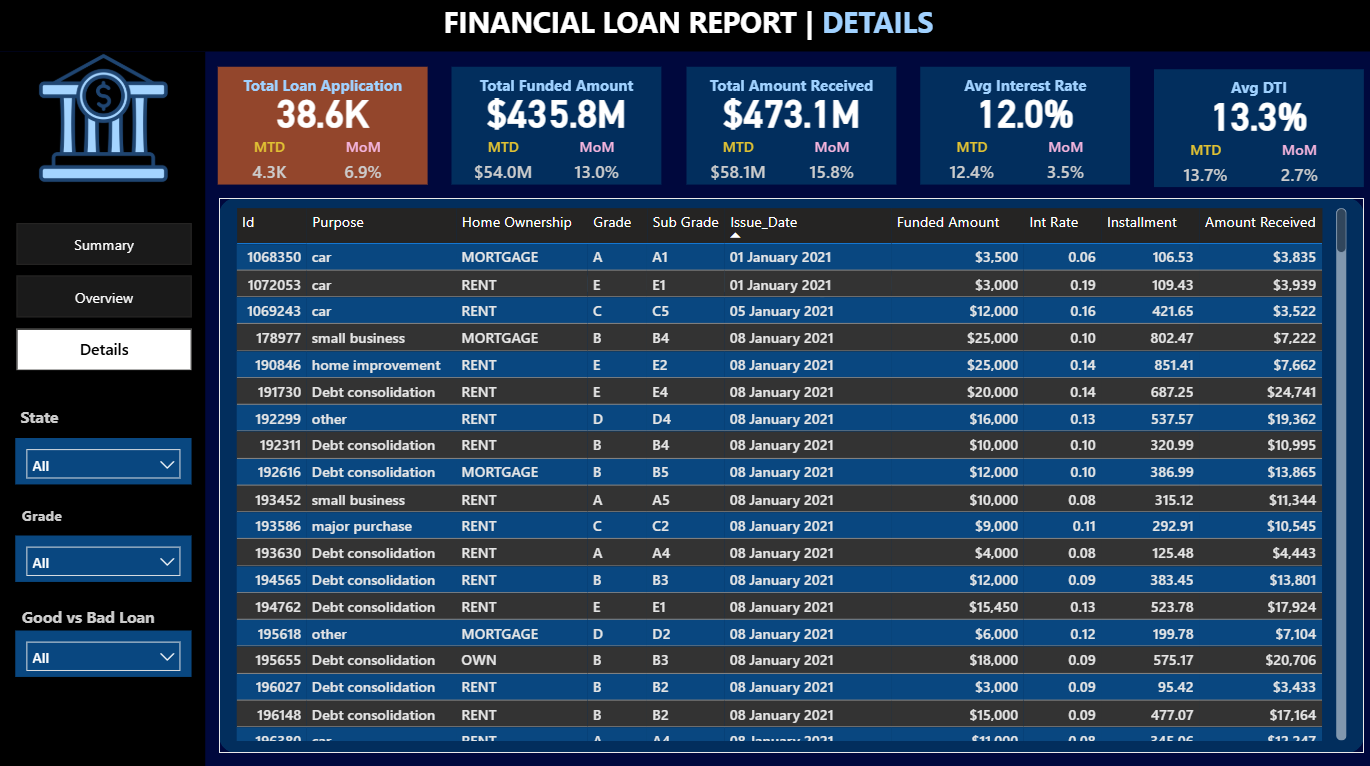

The dashboard page shown, as its layout file describes it:
{"tool":"powerbi","page":{"name":"Details","canvas":[1280,720],"ordinal":2},"visuals":[{"type":"shape","box":[0,54.7,191.9,665.1],"z":0},{"type":"textbox","box":[398.8,244.2,508.1,48.8],"z":1000},{"type":"group","id":"g1","title":"Group 1","box":[203.3,68.6,195.3,117.4],"z":2000},{"type":"shape","box":[203.3,68.6,195.3,109.8],"z":3000,"group":"g1"},{"type":"shape","box":[420.8,68.6,195.3,109.8],"z":3000,"group":"g3"},{"type":"group","id":"g2","title":"Group 1","box":[639.4,68.6,195.3,117.4],"z":3000},{"type":"shape","box":[639.4,68.6,195.3,109.8],"z":3000,"group":"g2"},{"type":"shape","box":[856.8,68.6,195.3,109.8],"z":3000,"group":"g4"},{"type":"shape","box":[1074.4,71.1,195.3,109.8],"z":3000,"group":"g5"},{"type":"card","fields":{"Values":["financial_loan.Toatl Loan Applications"]},"box":[203.3,82.7,195.3,54.4],"z":4000,"group":"g1"},{"type":"card","fields":{"Values":["financial_loan.Total Funded Amount"]},"box":[420.8,82.7,195.3,54.4],"z":4000,"group":"g3"},{"type":"card","fields":{"Values":["financial_loan.Total Amount Received"]},"box":[639.4,82.7,195.3,54.4],"z":4000,"group":"g2"},{"type":"card","fields":{"Values":["financial_loan.Avg Interest Rate"]},"box":[856.8,82.7,195.3,54.4],"z":4000,"group":"g4"},{"type":"card","fields":{"Values":["financial_loan.Avg DTI"]},"box":[1074.4,85.2,195.3,54.4],"z":4000,"group":"g5"},{"type":"shape","box":[204.7,190.7,1065.1,516.3],"z":4000},{"type":"group","id":"g3","title":"Group 1","box":[420.8,68.6,195.3,117.4],"z":5000},{"type":"textbox","box":[203.3,70.8,195.3,29.4],"z":5000,"group":"g1"},{"type":"textbox","box":[420.8,70.8,195.3,29.4],"z":5000,"group":"g3"},{"type":"textbox","box":[639.4,70.8,195.3,29.4],"z":5000,"group":"g2"},{"type":"textbox","box":[856.8,70.8,195.3,29.4],"z":5000,"group":"g4"},{"type":"textbox","box":[1074.4,73.3,195.3,29.4],"z":5000,"group":"g5"},{"type":"group","id":"g4","title":"Group 1","box":[856.8,68.6,195.3,117.4],"z":6000},{"type":"card","title":"MTD","fields":{"Values":["financial_loan.MTD Loan Application"]},"box":[213.8,133.8,75.6,52.2],"z":6000,"group":"g1"},{"type":"card","title":"MTD","fields":{"Values":["financial_loan.MTD Funded Amount"]},"box":[431.3,133.8,75.6,52.2],"z":6000,"group":"g3"},{"type":"card","title":"MTD","fields":{"Values":["financial_loan.MTD Total Amount Received"]},"box":[649.9,133.8,75.6,52.2],"z":6000,"group":"g2"},{"type":"card","title":"MTD","fields":{"Values":["financial_loan.MTD Avg Interest Rate"]},"box":[867.3,133.8,75.6,52.2],"z":6000,"group":"g4"},{"type":"card","title":"MTD","fields":{"Values":["financial_loan.MTD Avg DTI"]},"box":[1084.9,136.3,75.6,52.2],"z":6000,"group":"g5"},{"type":"group","id":"g5","title":"Group 1","box":[1074.4,71.1,195.3,117.4],"z":7000},{"type":"card","title":"MoM","fields":{"Values":["financial_loan.Mom Loan Application"]},"box":[301,133.8,75.6,52.2],"z":7000,"group":"g1"},{"type":"card","title":"MoM","fields":{"Values":["financial_loan.Mom Total Funded Amount"]},"box":[518.5,133.8,75.6,52.2],"z":7000,"group":"g3"},{"type":"card","title":"MoM","fields":{"Values":["financial_loan.Mom Total Amount Received"]},"box":[737.1,133.8,75.6,52.2],"z":7000,"group":"g2"},{"type":"card","title":"MoM","fields":{"Values":["financial_loan.Mom Avg Ineterest Rate"]},"box":[954.5,133.8,75.6,52.2],"z":7000,"group":"g4"},{"type":"card","title":"MoM","fields":{"Values":["financial_loan.Mom Avg DTI"]},"box":[1172.1,136.3,75.6,52.2],"z":7000,"group":"g5"},{"type":"textbox","box":[16.3,565.1,145.3,39.5],"z":8000},{"type":"slicer","fields":{"Values":["financial_loan.Good vs Bad Loan"]},"box":[15.1,593,164,43],"z":9000},{"type":"shape","box":[0,0,1280.2,54.7],"z":10000},{"type":"tableEx","fields":{"Values":["financial_loan.id","financial_loan.purpose","financial_loan.home_ownership","financial_loan.grade","financial_loan.sub_grade","financial_loan.issue_date","financial_loan.Total Funded Amount","Sum(financial_loan.int_rate)","Sum(financial_loan.installment)","financial_loan.Total Amount Received"]},"box":[215.1,195.3,1043,504.7],"z":11000},{"type":"textbox","box":[387.2,3.5,508.1,48.8],"z":12000},{"type":"slicer","fields":{"Values":["financial_loan.address_state"]},"box":[15.1,414,164,43],"z":13000},{"type":"textbox","box":[15.1,379.1,52.3,39.5],"z":14000},{"type":"slicer","fields":{"Values":["financial_loan.grade"]},"box":[15.1,504.7,164,43],"z":15000},{"type":"textbox","box":[16.3,472.1,52.3,39.5],"z":16000},{"type":"image","box":[15.1,54.7,164,123.3],"z":17000},{"type":"pageNavigator","box":[16.3,214,164,139.5],"z":18000}]}

Visuals, with their boxes in screenshot pixels (x1, y1, x2, y2), scaled from the page's 1280x720 canvas onto the 1370x766 screenshot:
shape: box(0, 58, 205, 765)
textbox: box(427, 260, 971, 312)
"Group 1" group: box(218, 73, 427, 198)
shape: box(218, 73, 427, 190)
shape: box(450, 73, 659, 190)
"Group 1" group: box(684, 73, 893, 198)
shape: box(684, 73, 893, 190)
shape: box(917, 73, 1126, 190)
shape: box(1150, 76, 1359, 192)
card - financial_loan.Toatl Loan Applications: box(218, 88, 427, 146)
card - financial_loan.Total Funded Amount: box(450, 88, 659, 146)
card - financial_loan.Total Amount Received: box(684, 88, 893, 146)
card - financial_loan.Avg Interest Rate: box(917, 88, 1126, 146)
card - financial_loan.Avg DTI: box(1150, 91, 1359, 149)
shape: box(219, 203, 1359, 752)
"Group 1" group: box(450, 73, 659, 198)
textbox: box(218, 75, 427, 107)
textbox: box(450, 75, 659, 107)
textbox: box(684, 75, 893, 107)
textbox: box(917, 75, 1126, 107)
textbox: box(1150, 78, 1359, 109)
"Group 1" group: box(917, 73, 1126, 198)
"MTD" card: box(229, 142, 310, 198)
"MTD" card: box(462, 142, 543, 198)
"MTD" card: box(696, 142, 777, 198)
"MTD" card: box(928, 142, 1009, 198)
"MTD" card: box(1161, 145, 1242, 201)
"Group 1" group: box(1150, 76, 1359, 201)
"MoM" card: box(322, 142, 403, 198)
"MoM" card: box(555, 142, 636, 198)
"MoM" card: box(789, 142, 870, 198)
"MoM" card: box(1022, 142, 1103, 198)
"MoM" card: box(1255, 145, 1335, 201)
textbox: box(17, 601, 173, 643)
slicer - financial_loan.Good vs Bad Loan: box(16, 631, 192, 677)
shape: box(0, 0, 1369, 58)
tableEx - financial_loan.id x financial_loan.purpose: box(230, 208, 1347, 745)
textbox: box(414, 4, 958, 56)
slicer - financial_loan.address_state: box(16, 440, 192, 486)
textbox: box(16, 403, 72, 445)
slicer - financial_loan.grade: box(16, 537, 192, 583)
textbox: box(17, 502, 73, 544)
image: box(16, 58, 192, 189)
pageNavigator: box(17, 228, 193, 376)
